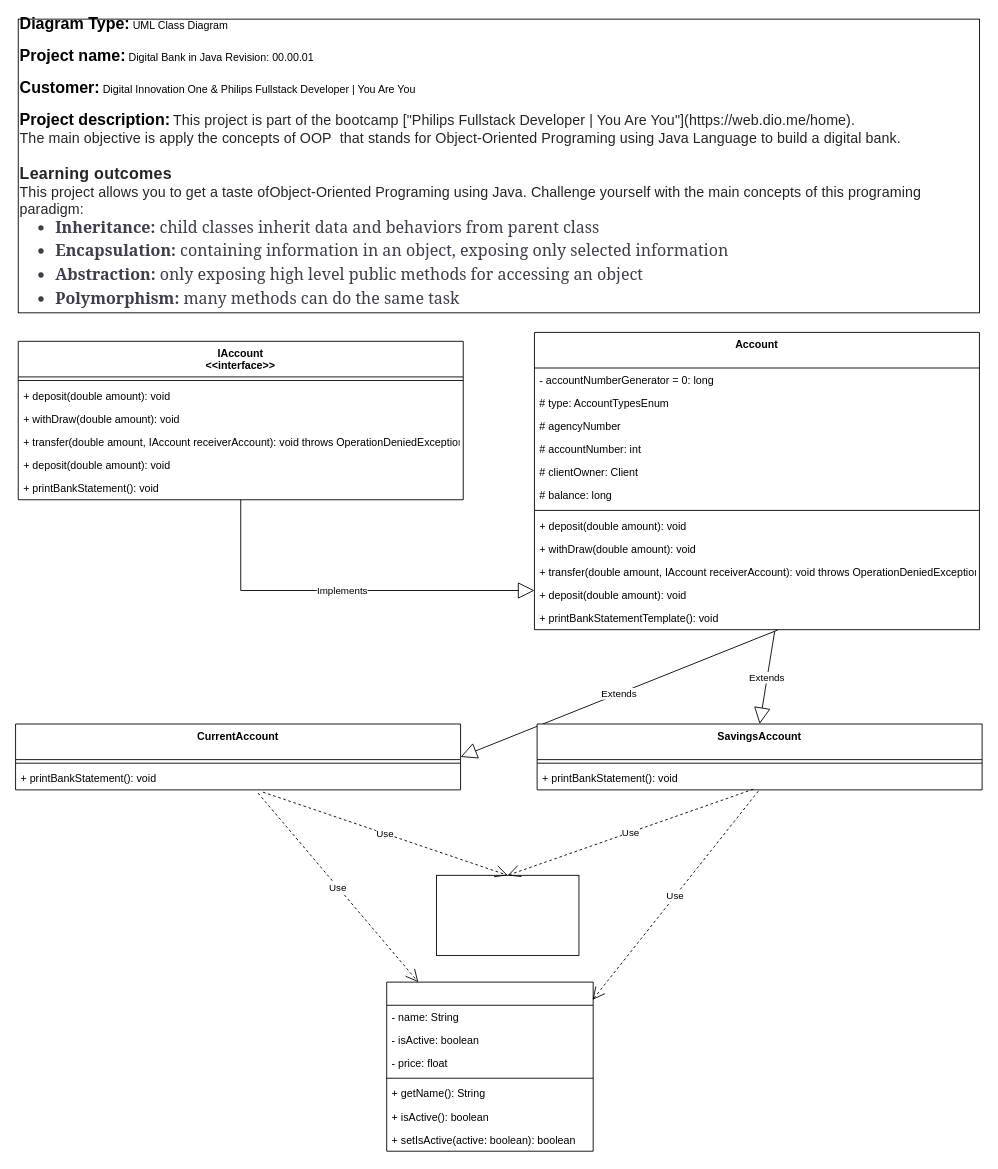
The diagram is 998 pixels wide and 1169 high, and some of its shapes have lost their labels. Here are the shapes that lost their labels. From the top down, the box of each, then its label:
(436, 874, 579, 955): AccountTypesEnum CURRENT_ACCOUNT SAVINGS_ACCOUNT
(386, 981, 593, 1151): Client
